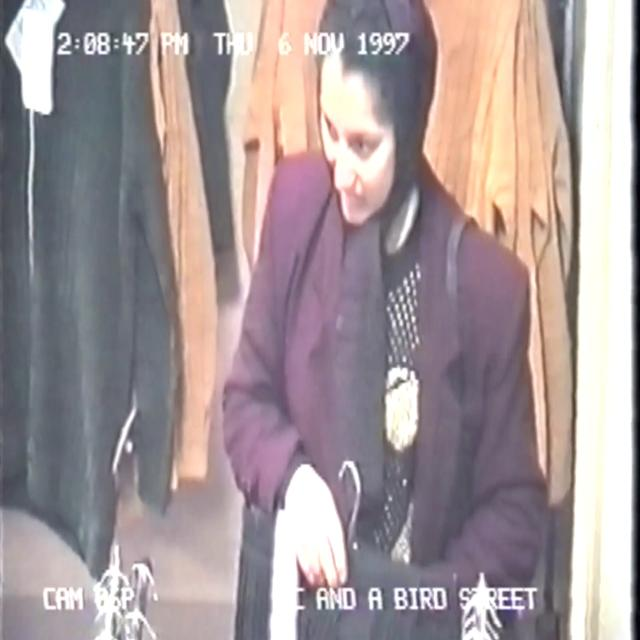Product: (237, 489, 453, 640)
shoplifting: (185, 0, 549, 640)
